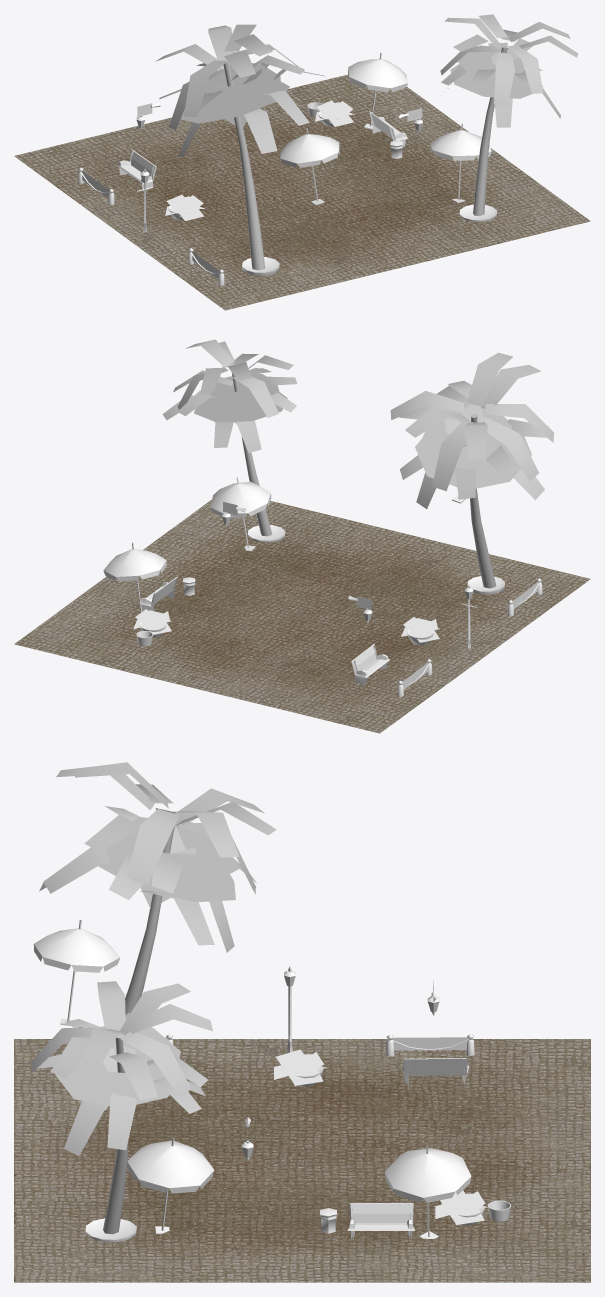
The model's file is propsonly_2b.gltf.
3 renders of one model, top to bottom at view 1: azimuth 30°, elevation 25°; view 2: azimuth 150°, elevation 25°; view 3: azimuth 270°, elevation 25°, orthographic. The views are drawn at different scales.
Parts seen in each view (by area): view 1: ground.016, prop_tree1.010, prop_tree1.009, prop_sunshade1.010, prop_sunshade1.008, prop_sunshade1.012, prop_bench1.014, prop_pot_flower1.009, prop_pot_flower1.010, prop_bench1.013, prop_pot1.020, prop_chain_fence1.015 (+2 smaller); view 2: ground.016, prop_tree1.010, prop_tree1.009, prop_sunshade1.012, prop_sunshade1.008, prop_bench1.014, prop_pot_flower1.010, prop_pot_flower1.009, prop_bench1.013; view 3: ground.016, prop_tree1.010, prop_tree1.009, prop_sunshade1.008, prop_sunshade1.012, prop_sunshade1.010, prop_bench1.013, prop_chain_fence1.018, prop_pot_flower1.010, prop_bench1.014, prop_pot_flower1.009, prop_pot1.019.
Boxes of the visible parts, x1=… form: ground.016: x1=14, y1=74, x2=590, y2=310; prop_tree1.010: x1=155, y1=24, x2=325, y2=270; prop_tree1.009: x1=440, y1=14, x2=578, y2=216; prop_sunshade1.010: x1=280, y1=128, x2=339, y2=205; prop_sunshade1.008: x1=348, y1=53, x2=407, y2=129; prop_sunshade1.012: x1=430, y1=123, x2=491, y2=203; prop_bench1.014: x1=117, y1=150, x2=156, y2=190; prop_pot_flower1.009: x1=315, y1=100, x2=354, y2=126; prop_pot_flower1.010: x1=165, y1=194, x2=204, y2=220; prop_bench1.013: x1=369, y1=111, x2=407, y2=146; prop_pot1.020: x1=242, y1=257, x2=279, y2=275; prop_chain_fence1.015: x1=188, y1=248, x2=224, y2=285; ground.016: x1=14, y1=499, x2=590, y2=733; prop_tree1.010: x1=390, y1=352, x2=554, y2=588; prop_tree1.009: x1=162, y1=339, x2=297, y2=536; prop_sunshade1.012: x1=210, y1=477, x2=271, y2=551; prop_sunshade1.008: x1=103, y1=542, x2=166, y2=612; prop_bench1.014: x1=351, y1=644, x2=389, y2=684; prop_pot_flower1.010: x1=401, y1=617, x2=439, y2=642; prop_pot_flower1.009: x1=133, y1=609, x2=171, y2=634; prop_bench1.013: x1=139, y1=576, x2=177, y2=611; ground.016: x1=14, y1=1039, x2=590, y2=1282; prop_tree1.010: x1=39, y1=762, x2=276, y2=1015; prop_tree1.009: x1=31, y1=981, x2=212, y2=1234; prop_sunshade1.008: x1=384, y1=1145, x2=471, y2=1238; prop_sunshade1.012: x1=127, y1=1137, x2=214, y2=1233; prop_sunshade1.010: x1=33, y1=920, x2=120, y2=1025; prop_bench1.013: x1=347, y1=1203, x2=415, y2=1240; prop_chain_fence1.018: x1=385, y1=1034, x2=474, y2=1056; prop_pot_flower1.010: x1=274, y1=1049, x2=326, y2=1085; prop_bench1.014: x1=401, y1=1058, x2=469, y2=1086; prop_pot_flower1.009: x1=435, y1=1190, x2=487, y2=1224; prop_pot1.019: x1=85, y1=1218, x2=136, y2=1242.
Size of what is drawn, in the model's own units: 3.4 by 2.06 by 3.3.
